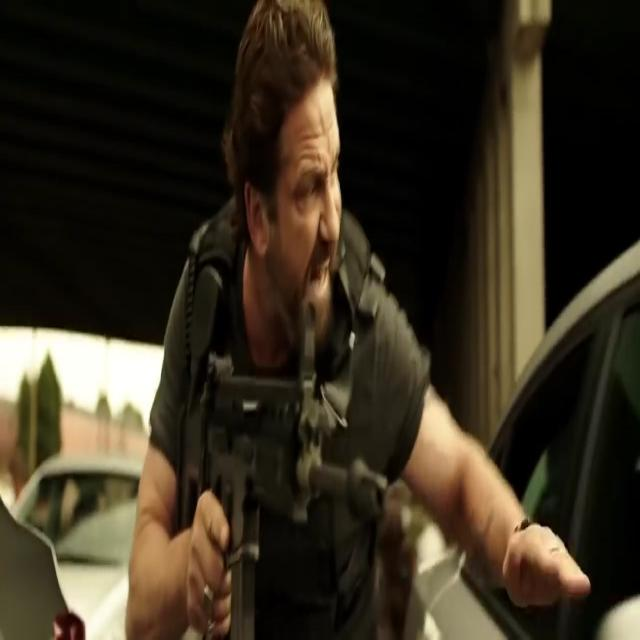Weapon: (188, 319, 409, 608)
